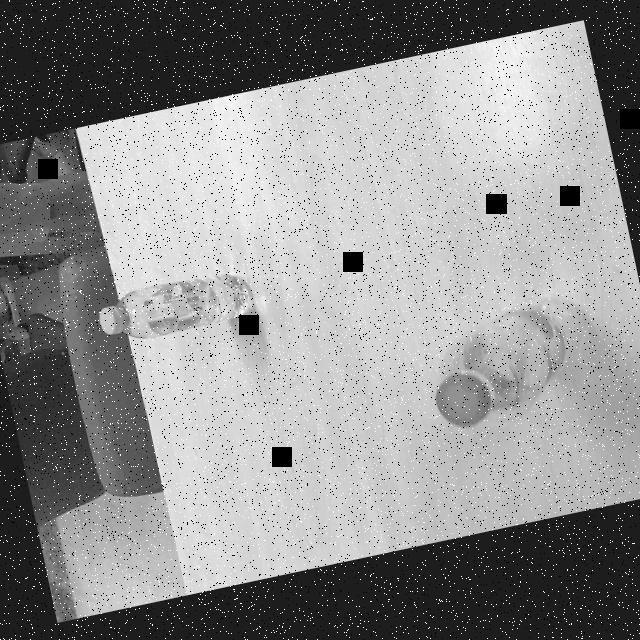plastic_bottle: (416, 282, 608, 438), (92, 264, 255, 346)
